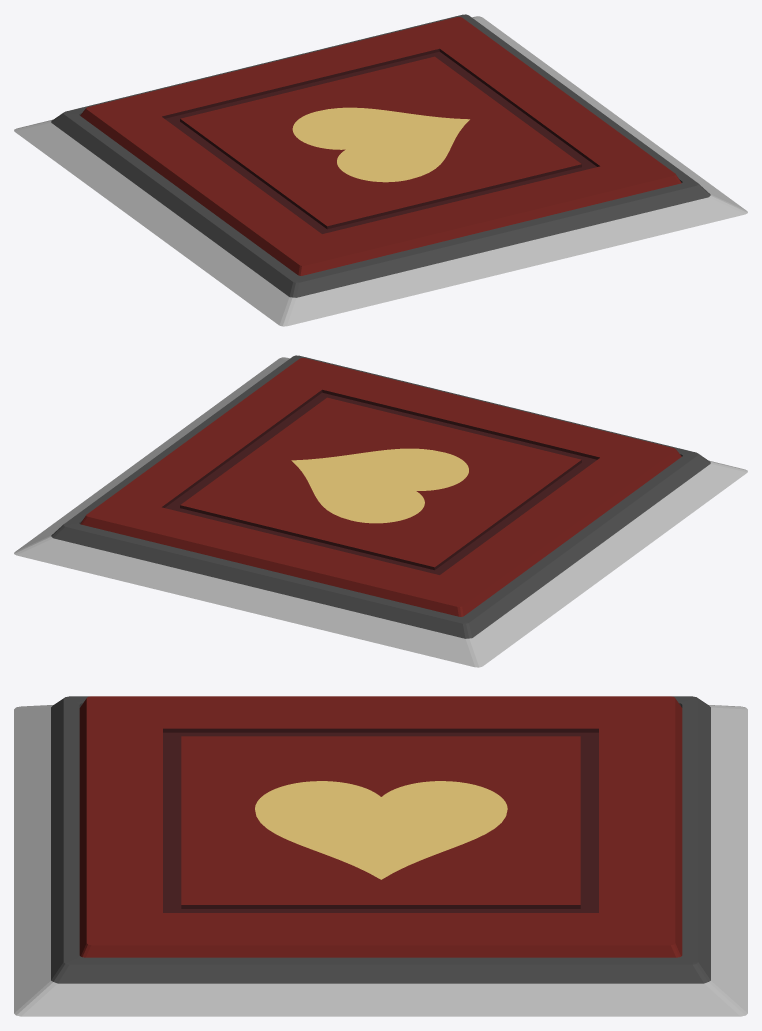
File: SquarePressurePlateHeart.fbx
3 renders of one model, top to bottom at view 1: azimuth 30°, elevation 25°; view 2: azimuth 150°, elevation 25°; view 3: azimuth 270°, elevation 25°, orthographic. The views are drawn at different scales.
Parts seen in each view (by area): view 1: Square_Pressure_Plate_With_Heart_Sign, Square_Pressure_Plate_With_Heart_Sign_Base; view 2: Square_Pressure_Plate_With_Heart_Sign, Square_Pressure_Plate_With_Heart_Sign_Base; view 3: Square_Pressure_Plate_With_Heart_Sign, Square_Pressure_Plate_With_Heart_Sign_Base.
Boxes of the visible parts, x1,y1,x2,y2 form: Square_Pressure_Plate_With_Heart_Sign: (80, 17, 681, 275); Square_Pressure_Plate_With_Heart_Sign_Base: (14, 14, 747, 326); Square_Pressure_Plate_With_Heart_Sign: (80, 358, 681, 616); Square_Pressure_Plate_With_Heart_Sign_Base: (14, 355, 747, 667); Square_Pressure_Plate_With_Heart_Sign: (79, 696, 682, 957); Square_Pressure_Plate_With_Heart_Sign_Base: (14, 696, 747, 1016).
Bounding box in the file's own units: 202 × 12.46 × 202.
